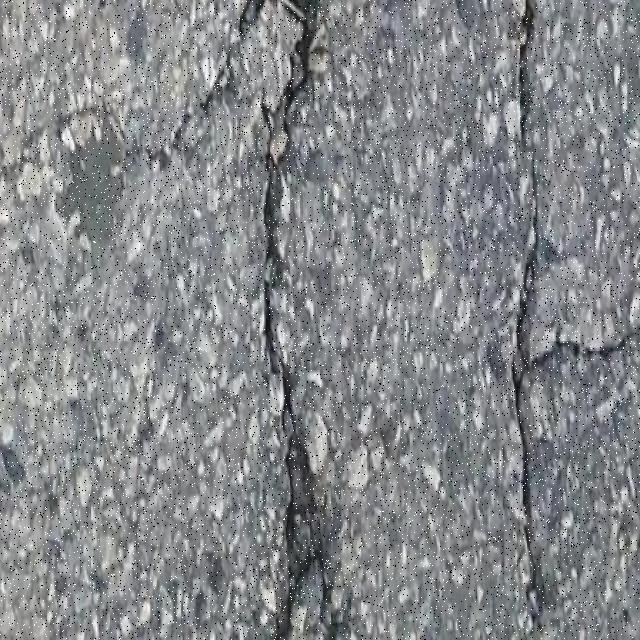Crack: (509, 199, 640, 639), (238, 0, 331, 613), (518, 0, 538, 117)
